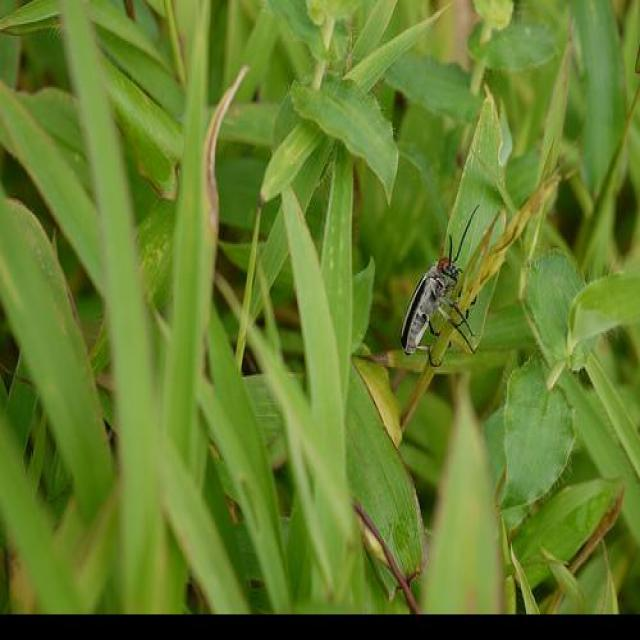BlisterBeetle-Adult-: (396, 201, 479, 369)
